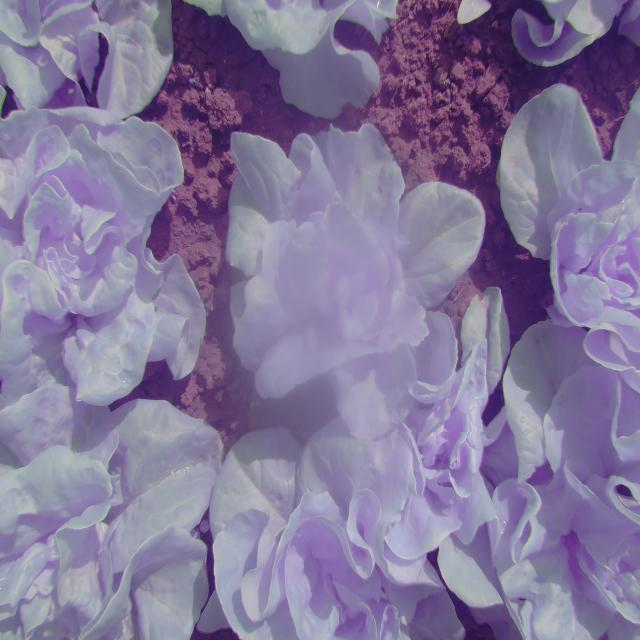vege: (200, 110, 500, 432)
